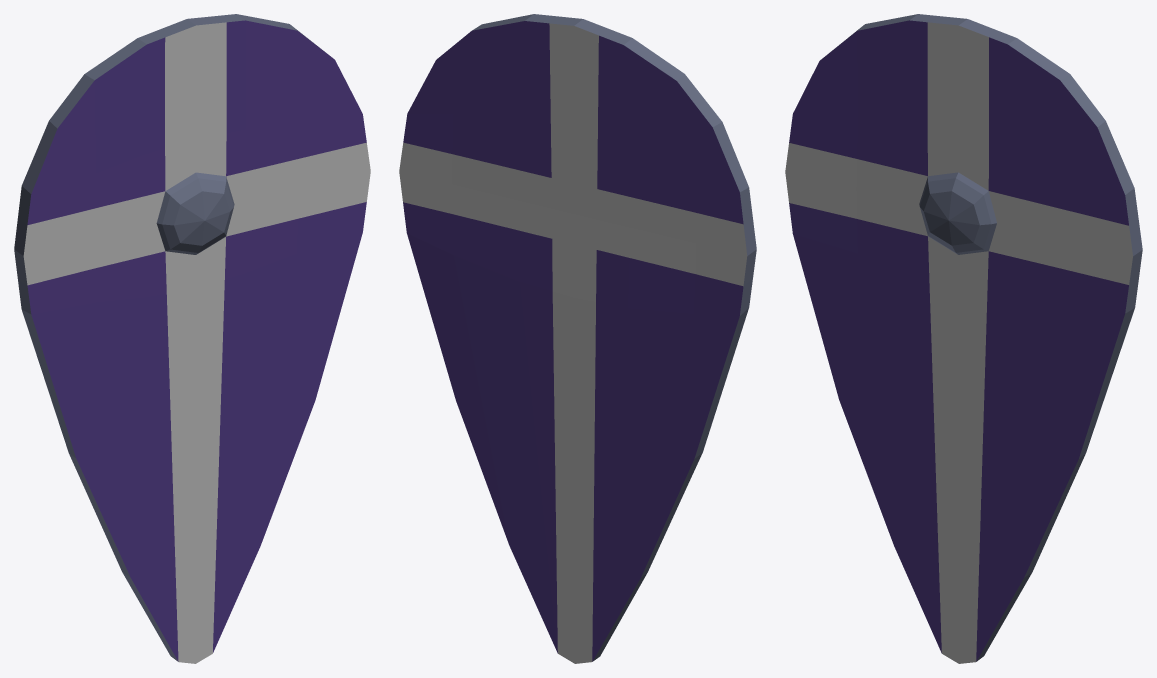
File: Shield_Armor_4.fbx
3 renders of one model, left to right at view 1: azimuth 30°, elevation 25°; view 2: azimuth 150°, elevation 25°; view 3: azimuth 330°, elevation 25°, orthographic.
Parts seen in each view (by area): view 1: Shield 1.006; view 2: Shield 1.006; view 3: Shield 1.006.
Boxes of the visible parts, <box> form: Shield 1.006: <box>14,14,370,663</box>; Shield 1.006: <box>399,14,756,663</box>; Shield 1.006: <box>785,14,1142,663</box>.
Bounding box in the file's own units: 60.62 × 106 × 5.63.
